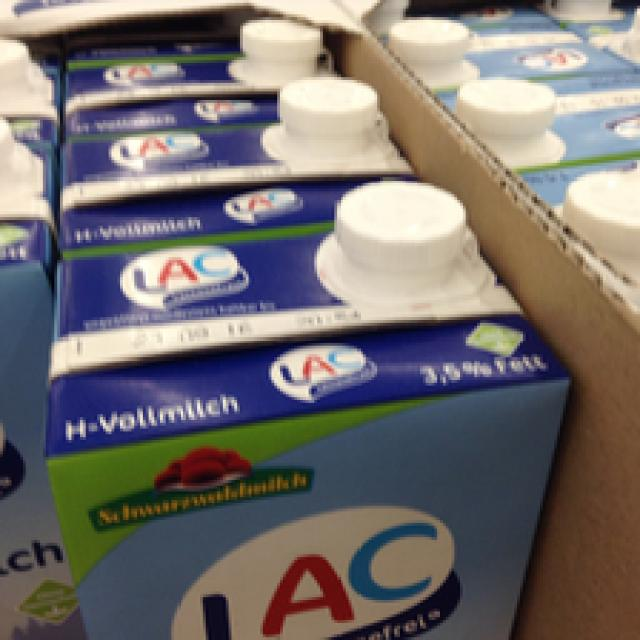groceries: (26, 177, 571, 637)
